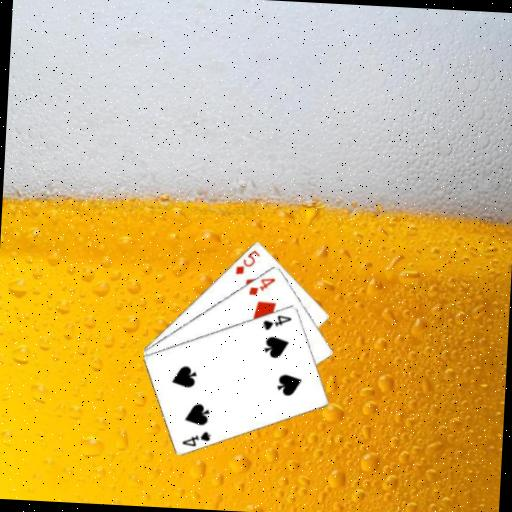4D: (246, 273, 278, 298)
4S: (259, 311, 294, 333), (178, 427, 213, 449)
5D: (232, 246, 261, 277)
